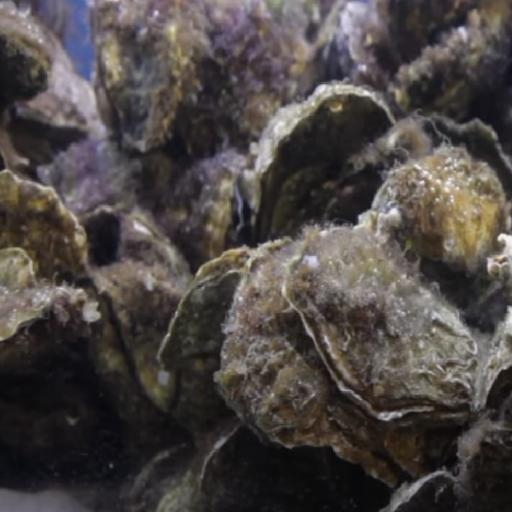Oyster-Closed: (215, 237, 459, 472), (362, 153, 512, 273), (97, 1, 193, 164), (95, 255, 191, 414), (1, 169, 90, 291), (40, 133, 134, 222), (1, 251, 90, 340)
Oyster-Open: (280, 226, 480, 425), (375, 116, 512, 214), (158, 244, 251, 374), (157, 154, 249, 265), (1, 11, 53, 106)
